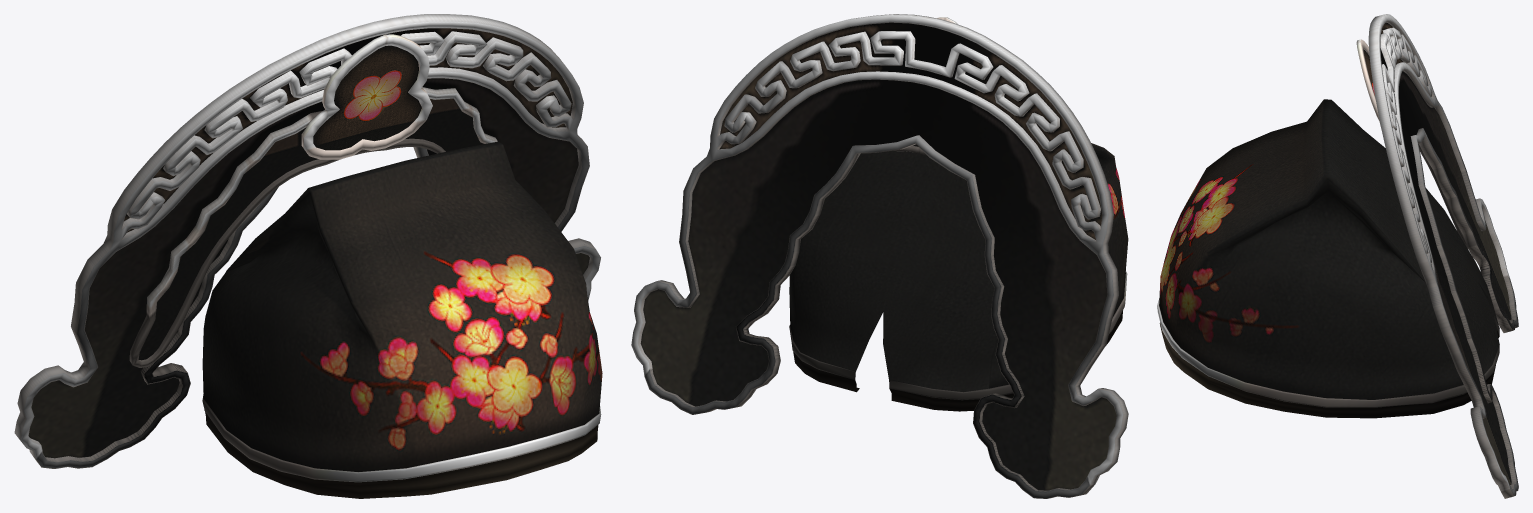
The model's file is LiuMengMei_01.FBX.
The picture shows the model from 3 angles, left to right: view 1: azimuth 30°, elevation 25°; view 2: azimuth 150°, elevation 25°; view 3: azimuth 270°, elevation 25°; orthographic projection. The views are drawn at different scales.
Parts seen in each view (by area): view 1: Sphere002; view 2: Sphere002; view 3: Sphere002.
Boxes of the visible parts, x1,y1,x2,y2 form: Sphere002: (14, 14, 602, 498); Sphere002: (631, 14, 1128, 498); Sphere002: (1157, 14, 1518, 498).
Bounding box in the file's own units: 681 × 514 × 453.
1 material, 1 textured.
